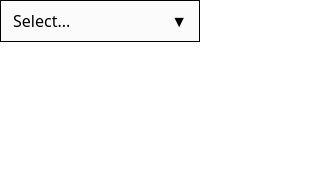
Test: Select 组件 › 应该在非受控模式下维护内部状态
Step 1. Click the text "Select..." → (42,21), box left=13, top=9, right=70, bottom=33
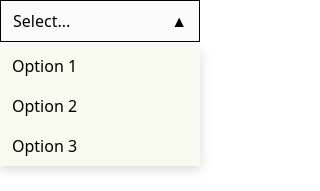
Step 2. Click the option "Option 1" → (45,66), box left=12, top=55, right=77, bottom=77
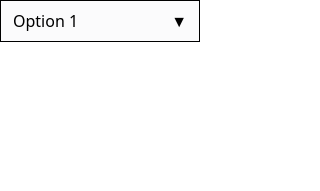
Expected: the text "Select..." reads "Option 1"
Step 3. Click the text "Select..." → (46,21), box left=13, top=9, right=78, bottom=33
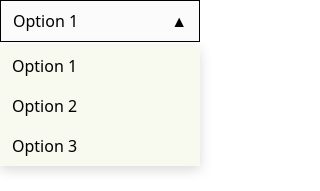
Step 4. Click the option "Option 2" → (45,106), box left=12, top=95, right=77, bottom=117
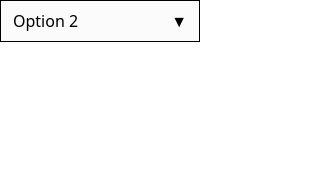
Expected: the text "Select..." reads "Option 2", left=13, top=10, right=78, bottom=32
